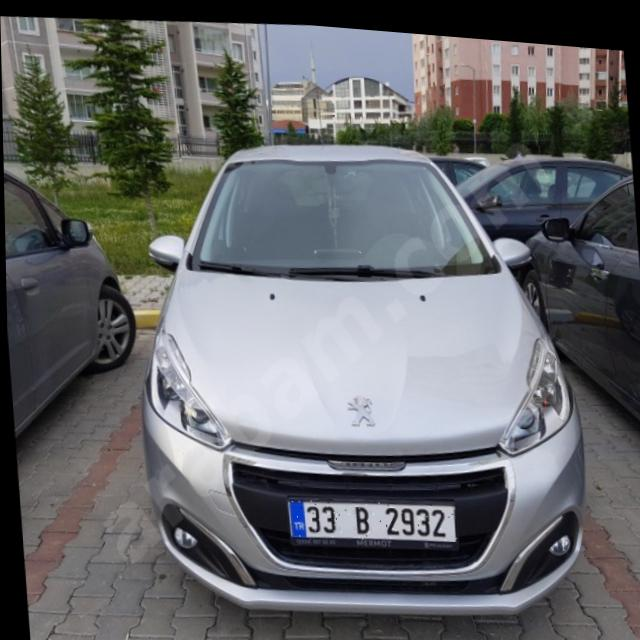license_plate: (283, 486, 455, 544)
